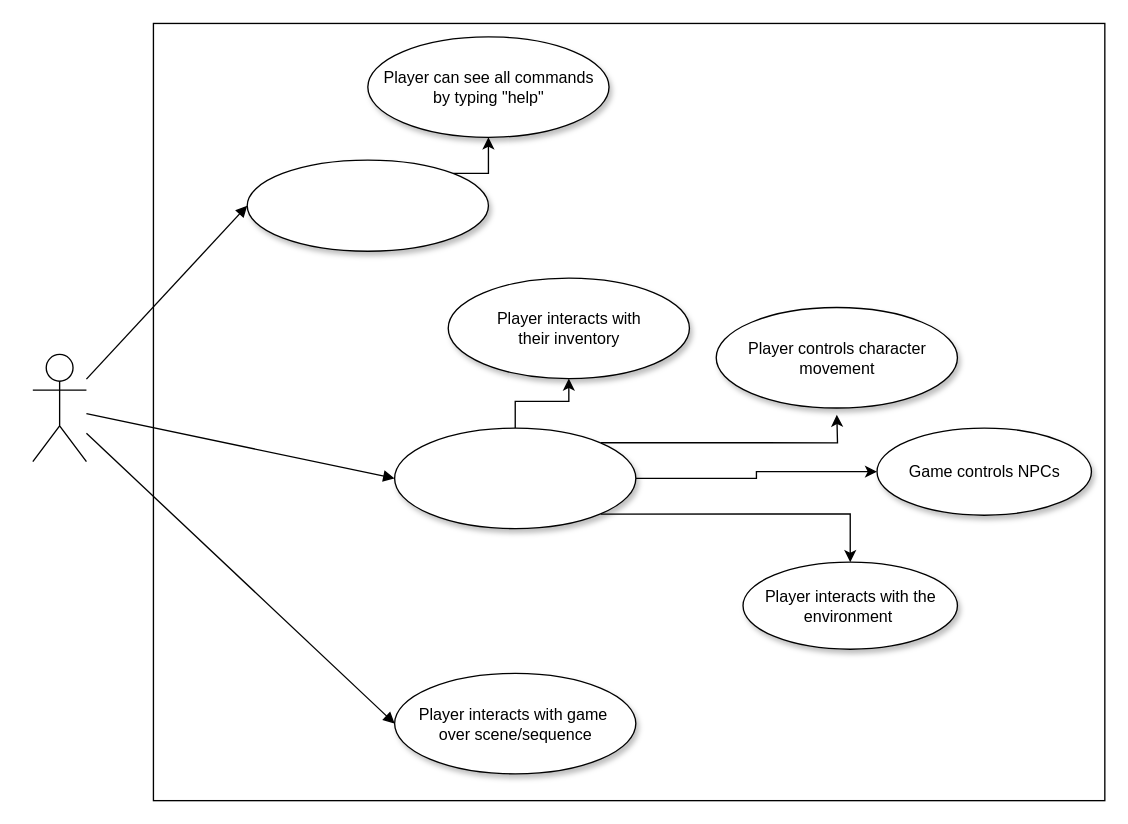
This 1128x824 diagram has some shape labels left out. The centre of each missing label's shape, as x and y in pixels:
"Player" goes at (58,407).
"Player interacts with game" goes at (516,479).
"Player Interacts with title menu" goes at (368,207).
